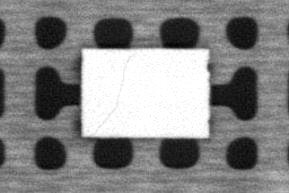DIE_CRACK: (95, 54, 136, 131)
